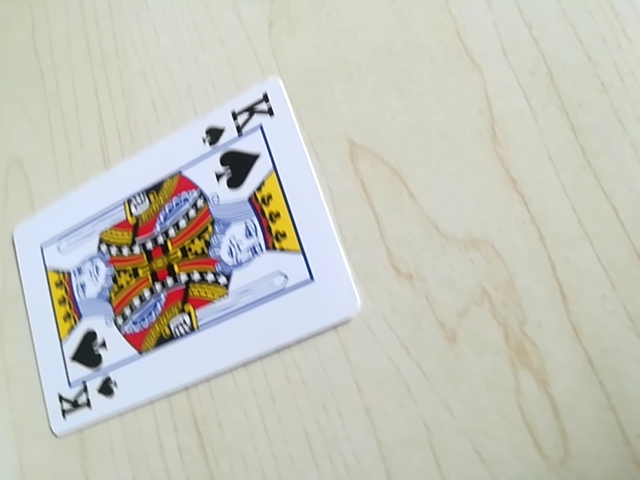ht k: (197, 89, 278, 149), (50, 361, 117, 426)
